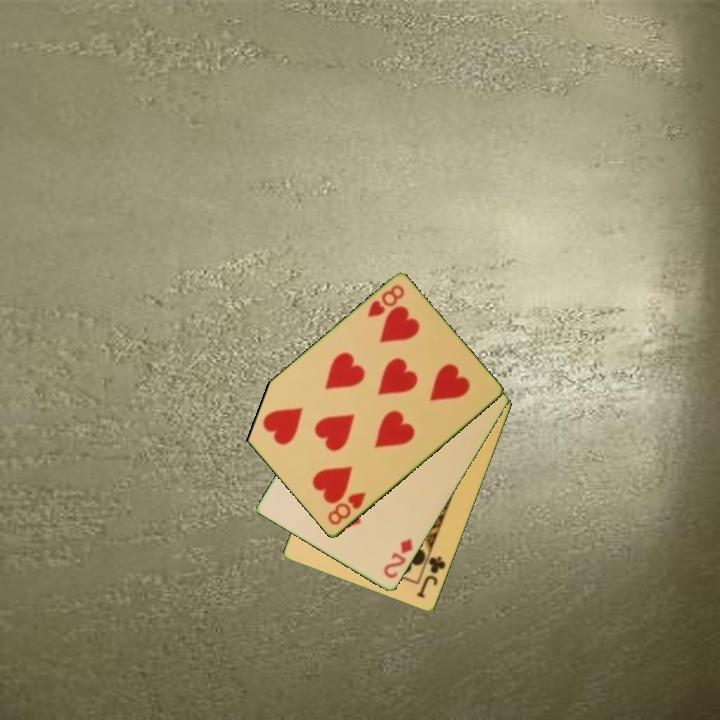2d: (380, 535, 416, 582)
8h: (324, 489, 369, 529), (364, 281, 408, 321)
Jc: (414, 553, 449, 601)
